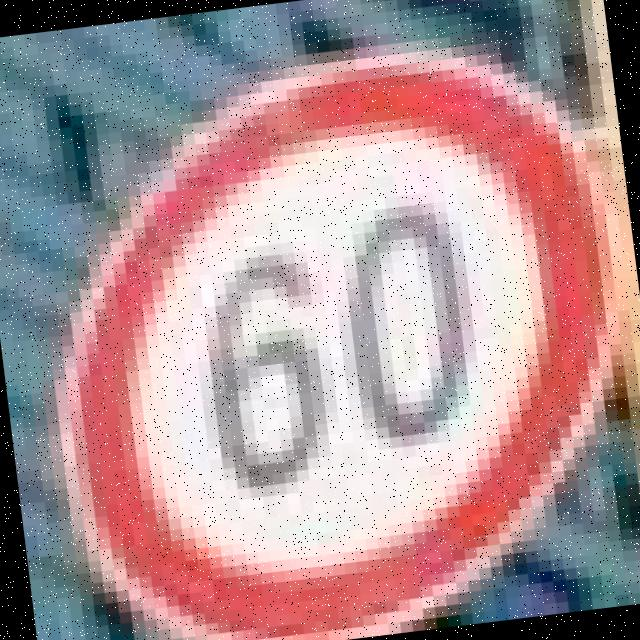Ograniczenie predkosci do 60: (6, 23, 627, 640)
